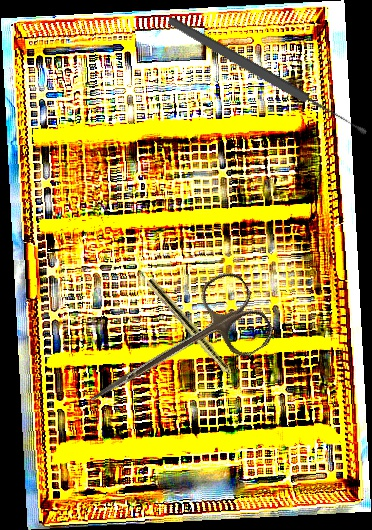Handpiece: (144, 277, 249, 394)
Iris Scissors: (70, 265, 279, 440)
Surgical Spoon: (165, 14, 370, 139)
